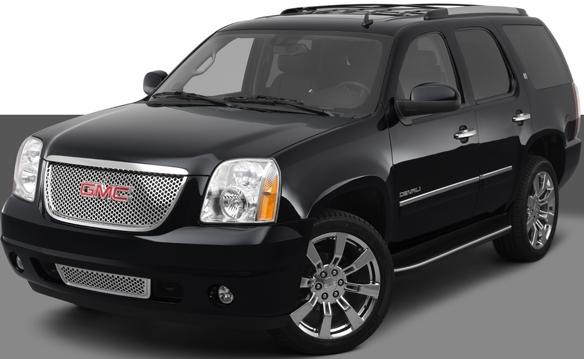front_view: (10, 128, 308, 321)
headlight: (196, 143, 303, 232)
side_glass: (401, 18, 525, 110)
